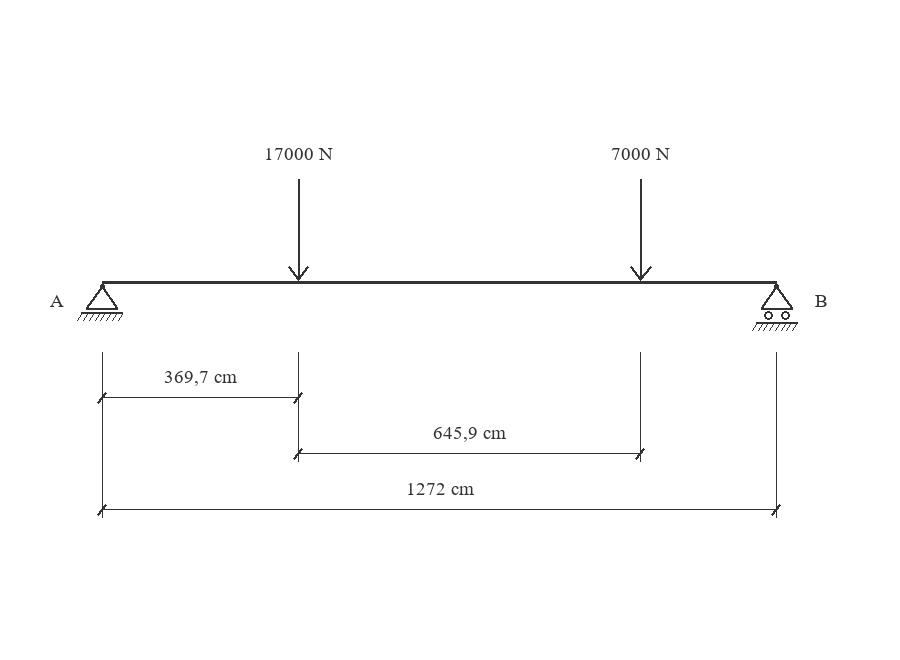pin_support: (77, 284, 123, 321)
point_load: (630, 179, 652, 281), (288, 179, 309, 281)
roller_support: (752, 284, 798, 331)
